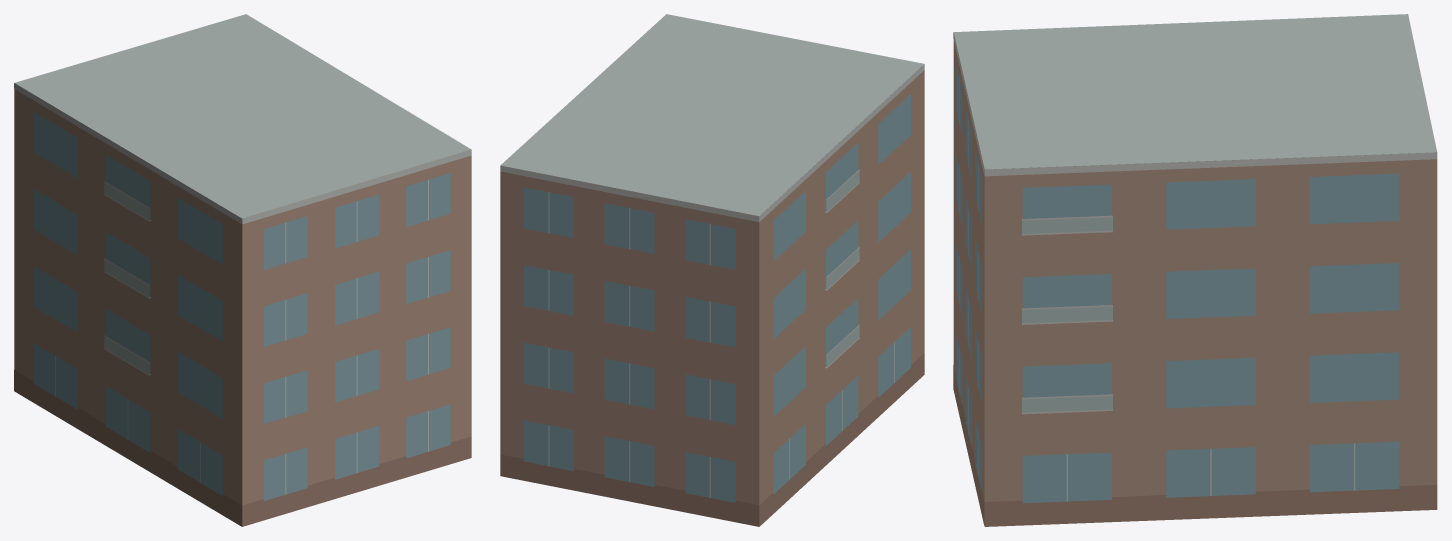
Rendered from survey-upis-32664414.glb.
3 views of the same model, side by side, from view 1: azimuth 30°, elevation 25°; view 2: azimuth 150°, elevation 25°; view 3: azimuth 270°, elevation 25° (orthographic). The views are drawn at different scales.
Parts seen in each view (by area): view 1: survey-upis-32664414.tmp; view 2: survey-upis-32664414.tmp; view 3: survey-upis-32664414.tmp.
Boxes of the visible parts, <box> form: survey-upis-32664414.tmp: <box>14,14,471,526</box>; survey-upis-32664414.tmp: <box>500,14,924,526</box>; survey-upis-32664414.tmp: <box>953,14,1437,526</box>.
Bounding box in the file's own units: 11.86 × 12.7 × 15.59.
